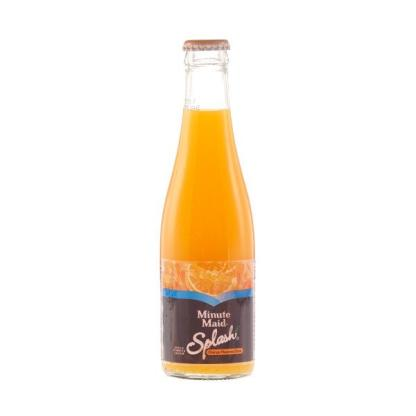Can: (160, 38, 256, 381)
